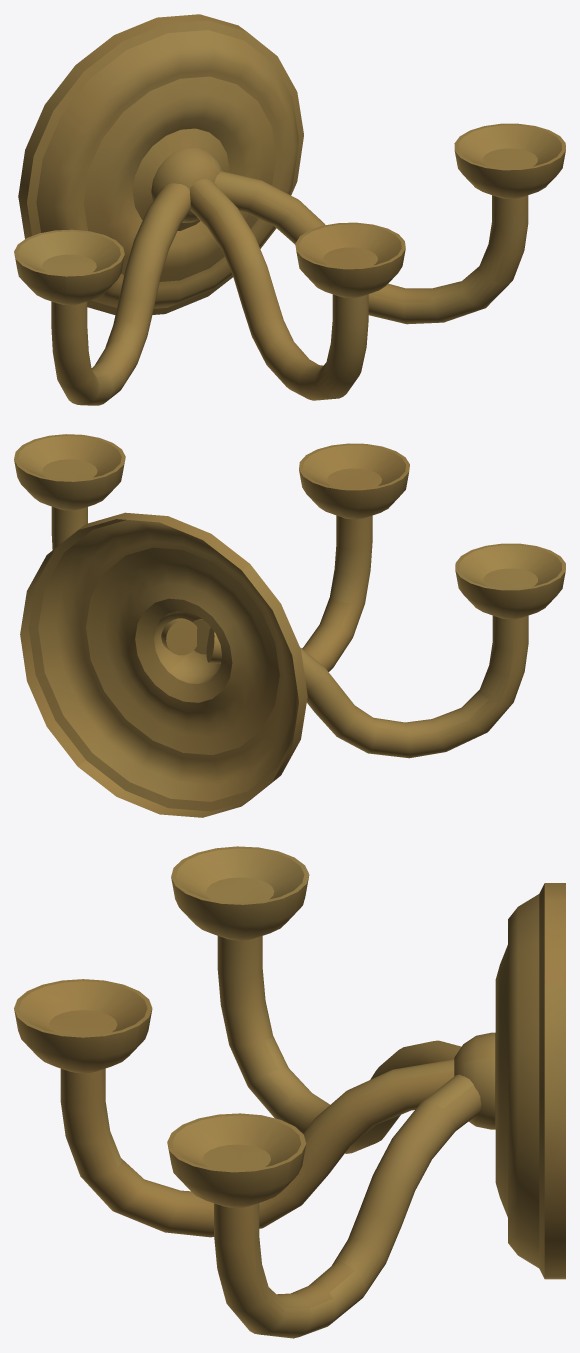
File: EN_WallLamp_01.fbx
3 renders of one model, top to bottom at view 1: azimuth 30°, elevation 25°; view 2: azimuth 150°, elevation 25°; view 3: azimuth 270°, elevation 25°, orthographic. The views are drawn at different scales.
Visible parts, largest first — view 1: WallLight; view 2: WallLight; view 3: WallLight.
Boxes of the visible parts, x1=… form: WallLight: x1=14, y1=14, x2=565, y2=405; WallLight: x1=14, y1=434, x2=565, y2=817; WallLight: x1=14, y1=846, x2=565, y2=1338.
Bounding box in the file's own units: 25.73 × 13.31 × 18.41.
